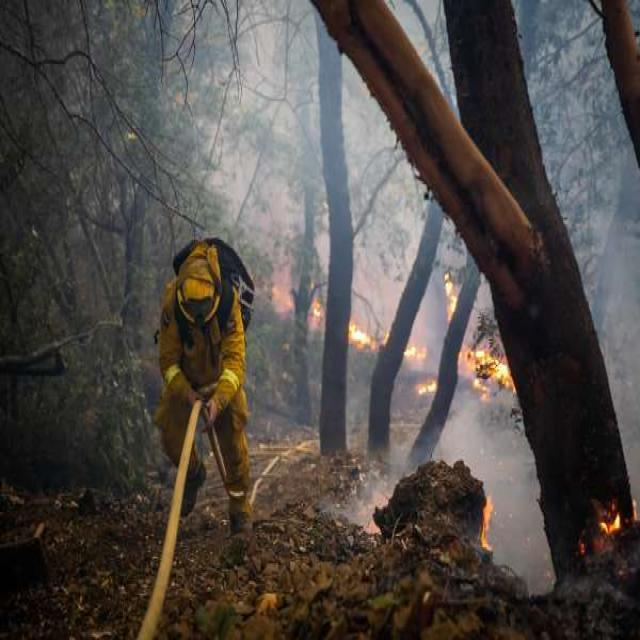Fire: (306, 294, 378, 354), (456, 344, 516, 401), (588, 506, 628, 542), (440, 266, 460, 326), (478, 494, 498, 554)
Smoke: (551, 162, 640, 502), (436, 379, 559, 607), (318, 423, 418, 545)
